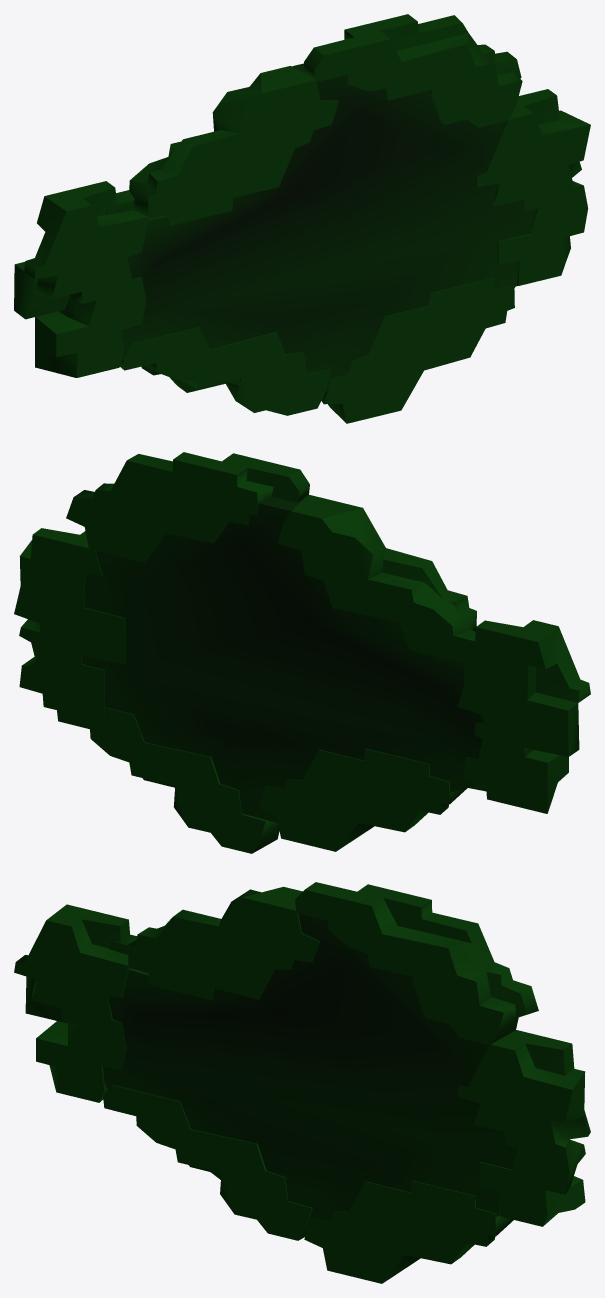
File: DBK_Brick_Prop_Big_D.fbx
The picture shows the model from 3 angles, top to bottom: view 1: azimuth 30°, elevation 25°; view 2: azimuth 150°, elevation 25°; view 3: azimuth 330°, elevation 25°; orthographic projection.
Visible parts, largest first — view 1: DBK_Brick_Prop_Big_D; view 2: DBK_Brick_Prop_Big_D; view 3: DBK_Brick_Prop_Big_D.
Boxes of the visible parts, x1,y1,x2,y2 form: DBK_Brick_Prop_Big_D: (14, 14, 590, 423); DBK_Brick_Prop_Big_D: (14, 452, 590, 853); DBK_Brick_Prop_Big_D: (14, 882, 590, 1283).
Size of the model in its own units: 303 by 193 by 20.05.
